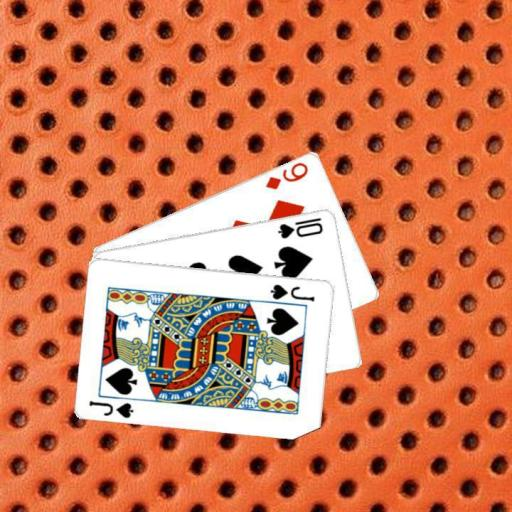card-corner: (262, 159, 310, 191), (274, 213, 325, 240), (86, 397, 135, 419), (268, 280, 316, 302)
